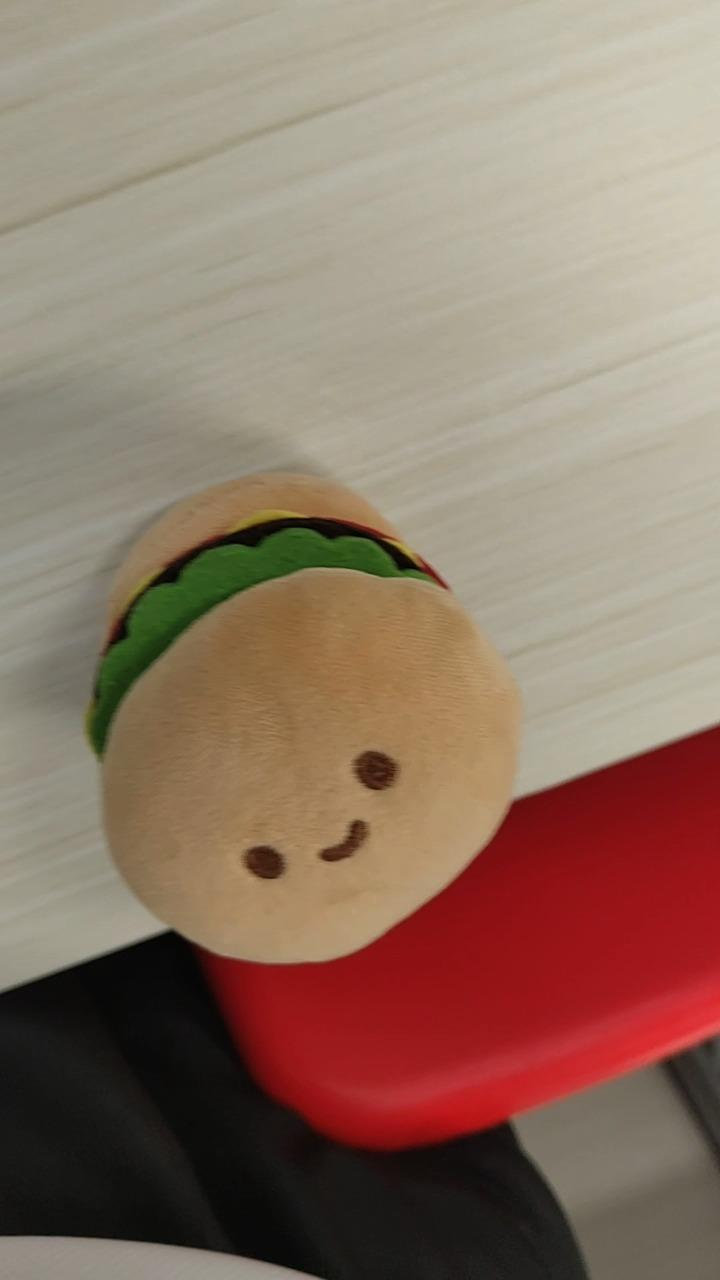hamburger: (85, 468, 525, 965)
